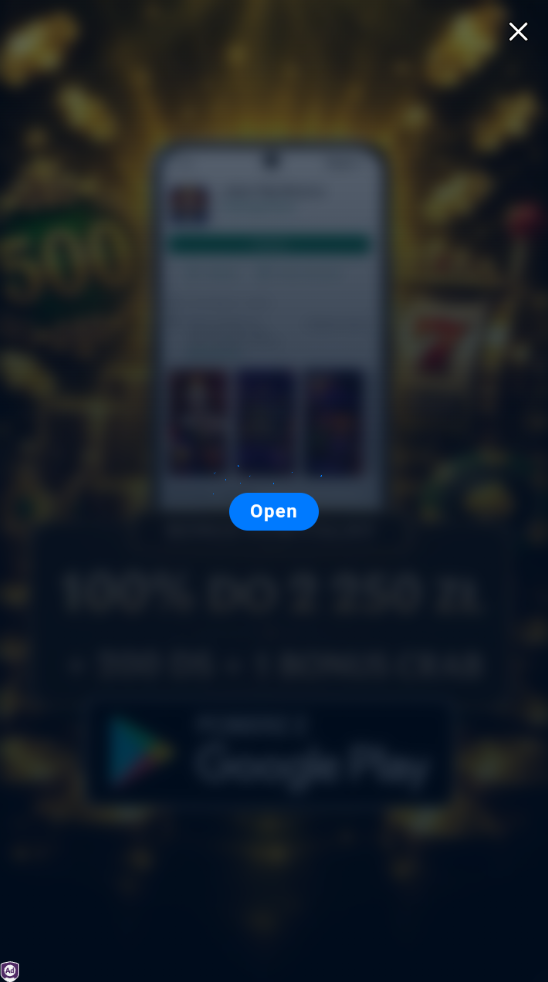close_button: (506, 20, 531, 44)
